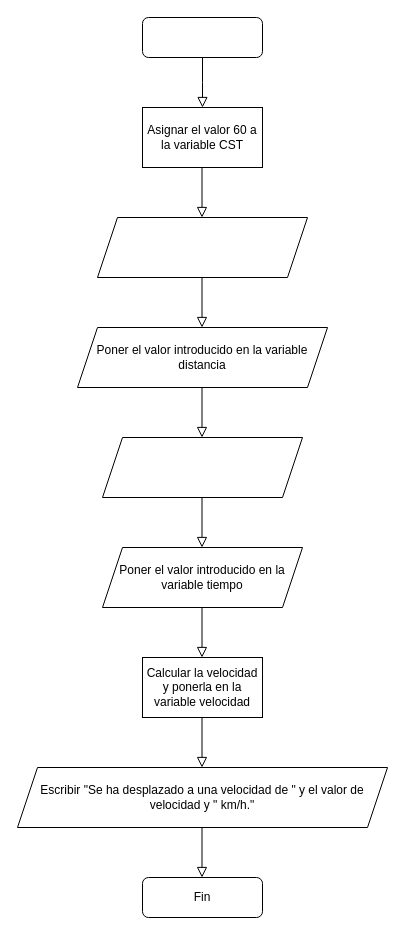
This 405x935 diagram has some shape labels left out. Here are the shapes that lost their labels. From the top down, the centre of each, then its label:
(202,37): Inicio
(202,247): Escribir "Introduzca la distancia recorrida (km)."
(202,467): Escribir "Introduzca el tiempo recorrido (min)."
